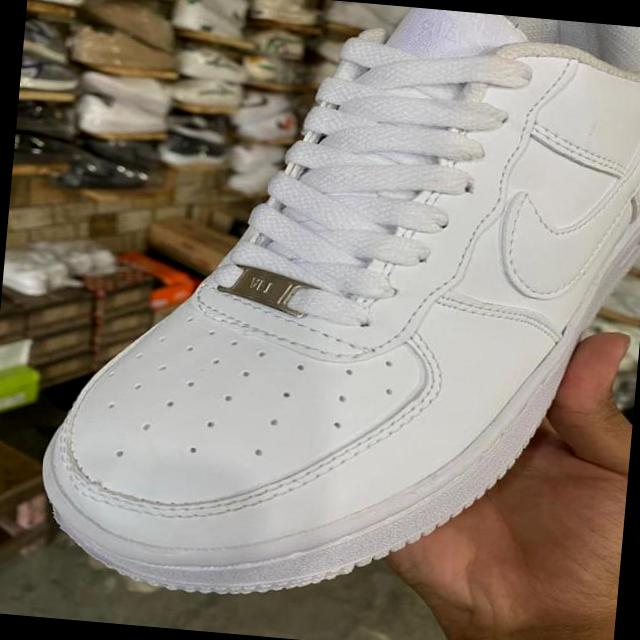nike_fake_airforce: (33, 0, 640, 634)
